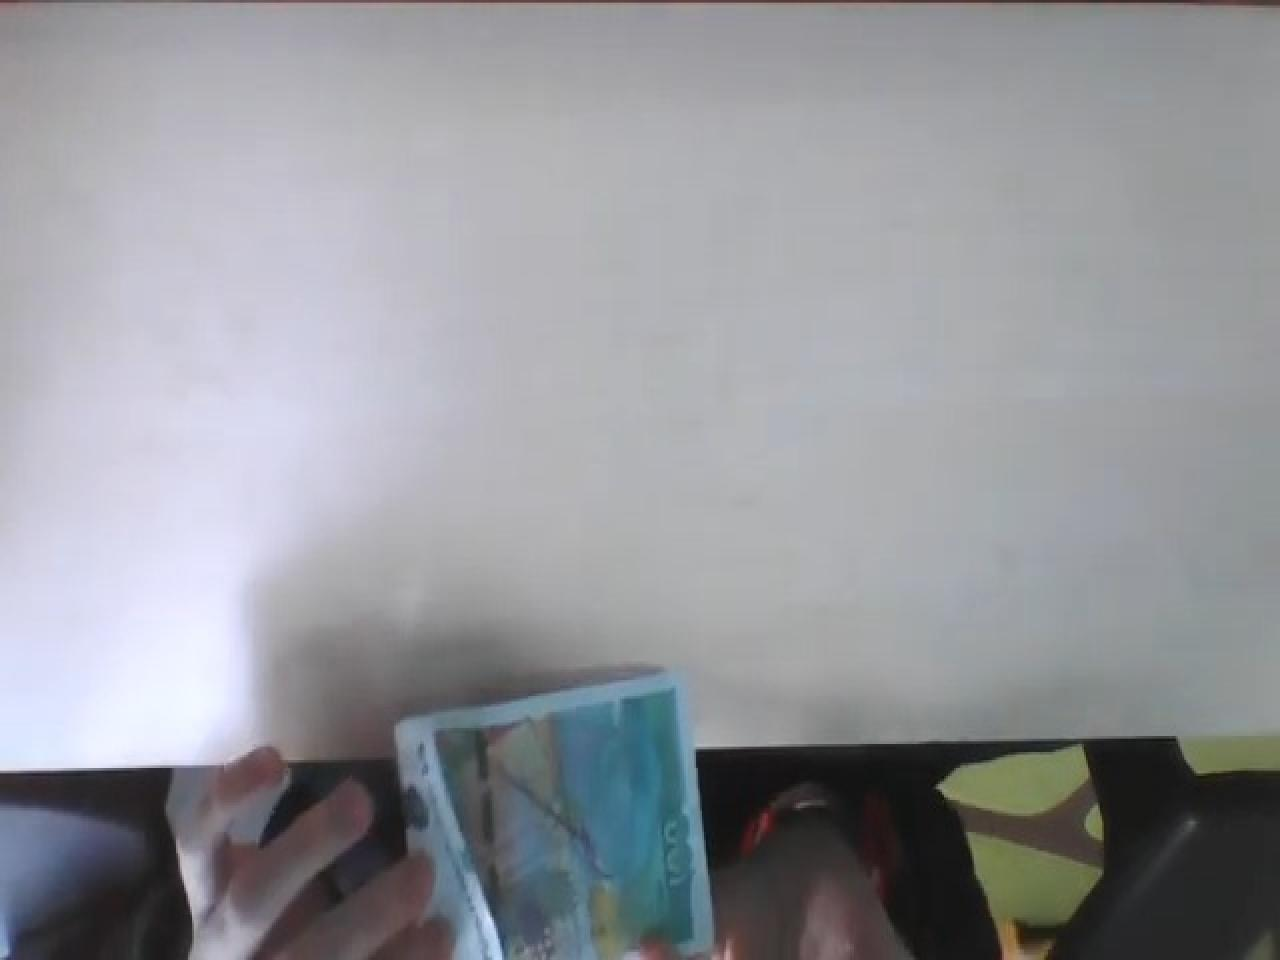100leva: (392, 672, 714, 960)
